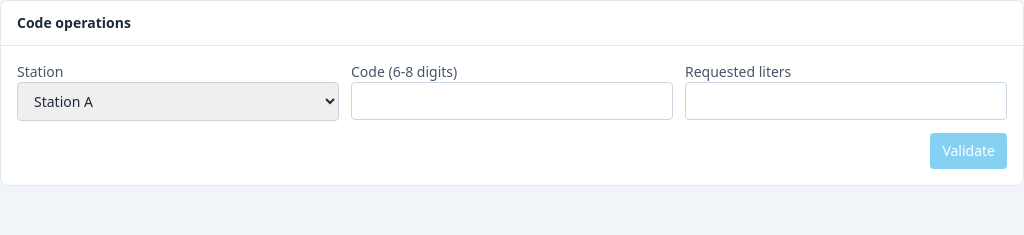
Test: CodeOpsCard › surfaces ApiError detail when validation fails
Select "Station A" in the dropdown labelled "Station" at coordinates (178, 102), box [17, 82, 339, 121]
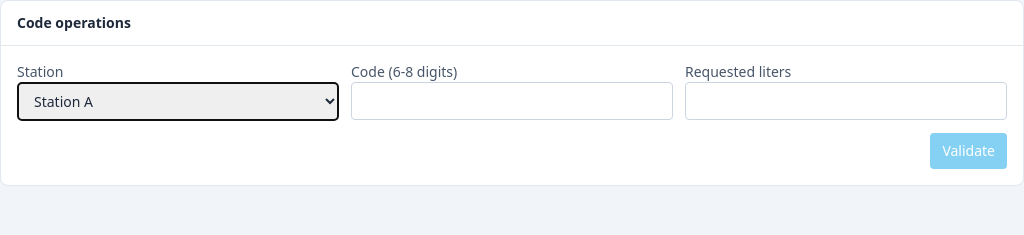
Type "123456" into the field labelled "Code (6-8 digits)" at coordinates (512, 101), box [351, 82, 673, 120]
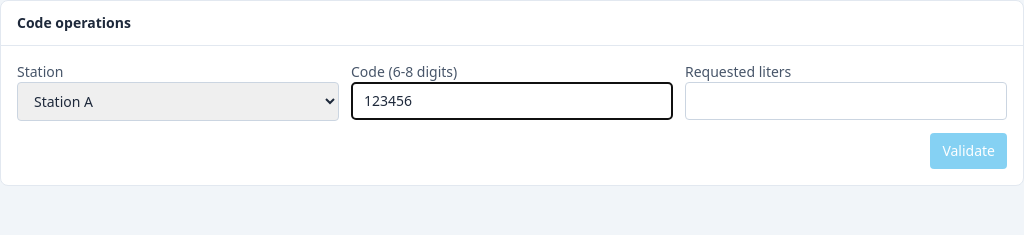
Type "50" into the number field labelled "Requested liters" at coordinates (846, 101), box [685, 82, 1007, 120]
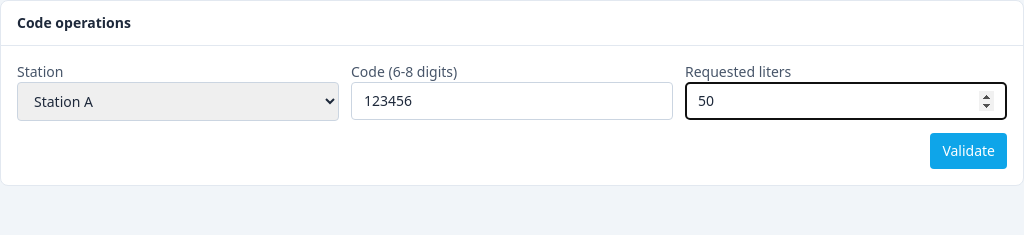
Click the button "Validate" at coordinates (969, 151), box [930, 133, 1007, 169]
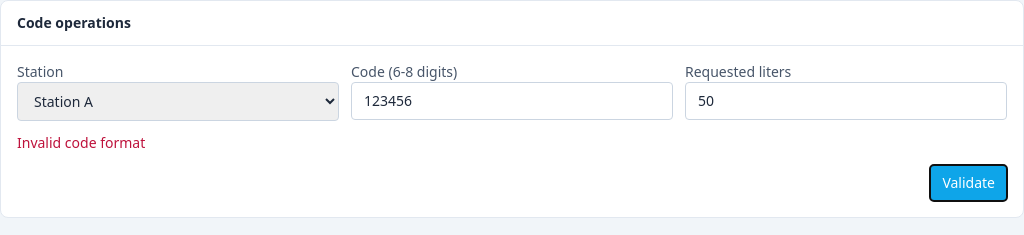
Check: the text "Invalid code format" is shown, box [17, 133, 145, 152]
